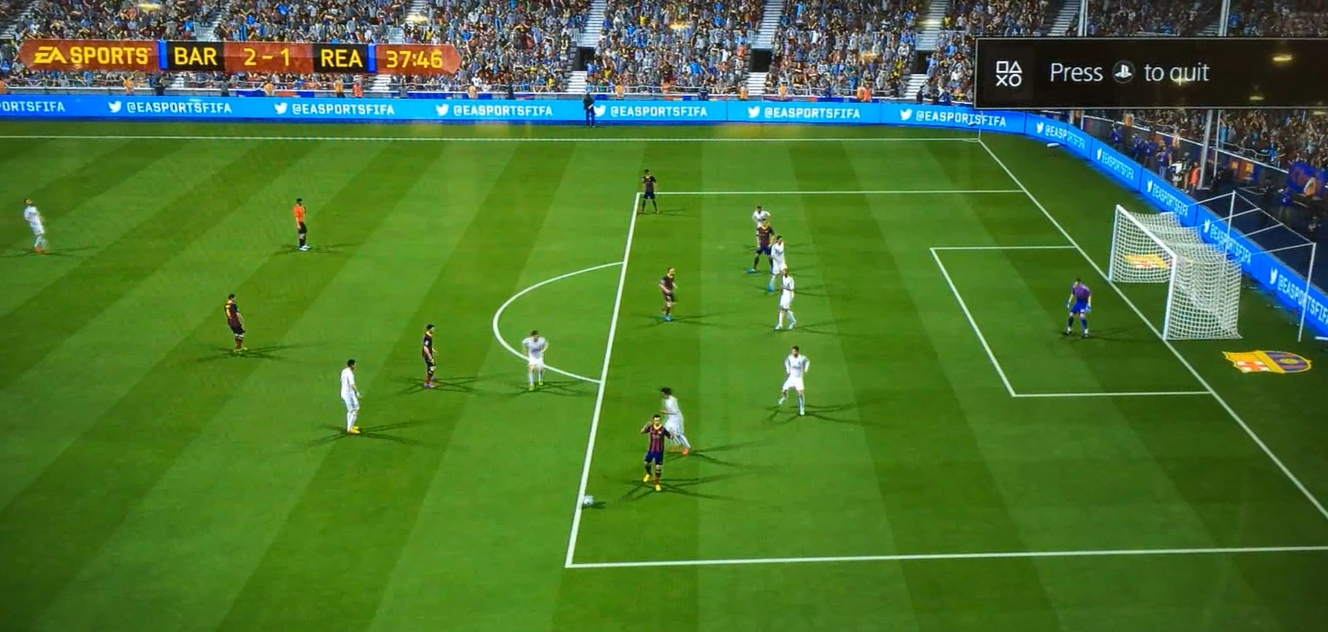ball: (579, 489, 598, 510)
goal: (1110, 201, 1312, 342)
player: (776, 346, 817, 416), (755, 203, 788, 277), (337, 354, 366, 434), (521, 326, 553, 394), (1065, 275, 1098, 340), (659, 386, 689, 451), (19, 194, 50, 252), (641, 413, 664, 490), (224, 288, 249, 351), (778, 271, 802, 327), (636, 167, 662, 215), (421, 324, 440, 389), (659, 263, 679, 321)
